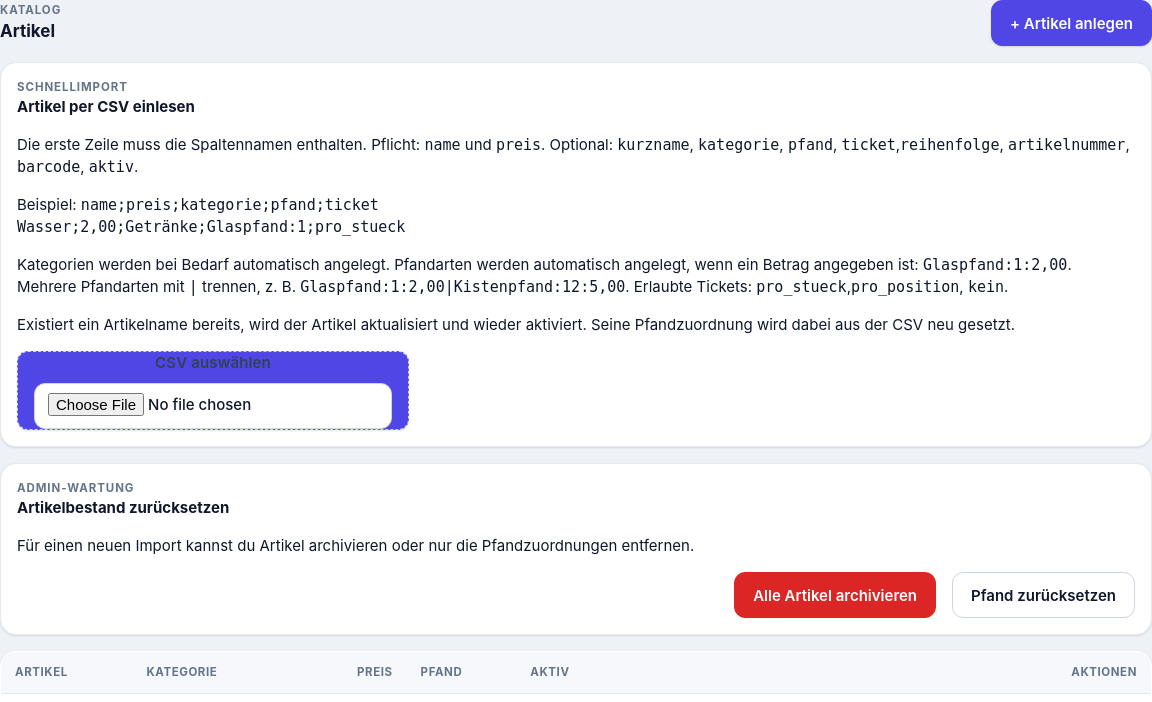
Test case: Artikel Component › should show validation errors when creating an article with invalid data
// Open the form
Click the button "+ Artikel anlegen".
click(1072, 23)  # box [991, 0, 1151, 46]
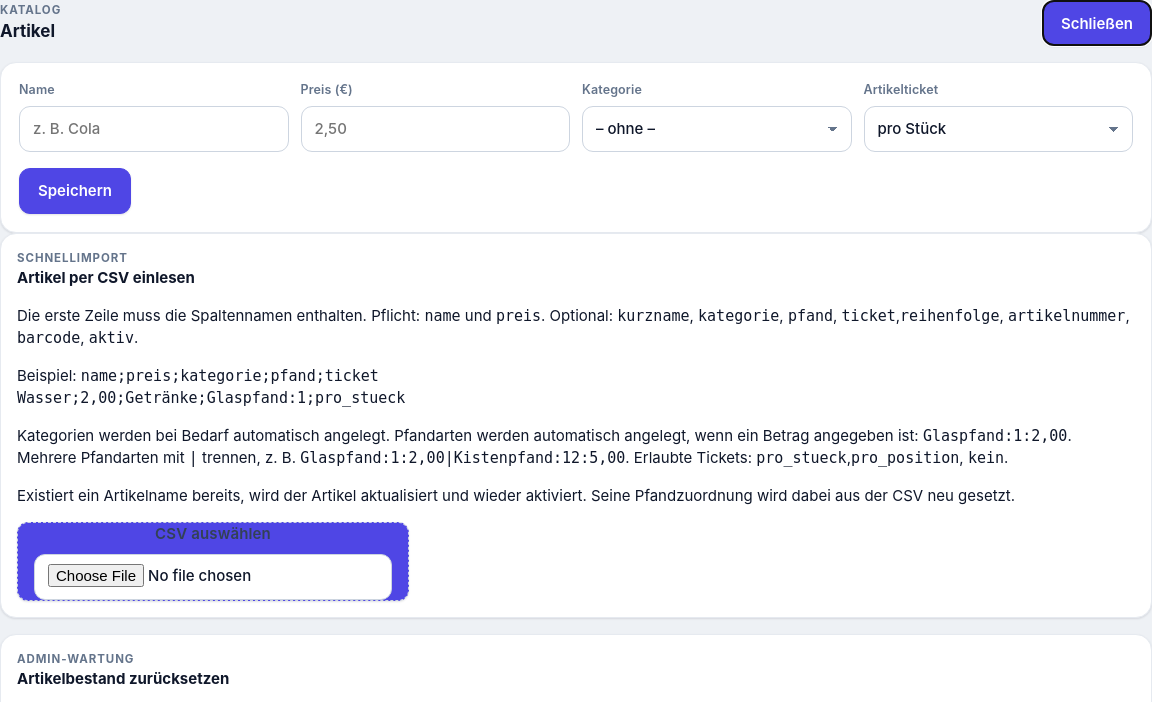
// Try to save without a name
Click the button "Speichern".
click(75, 191)  # box [19, 168, 131, 214]
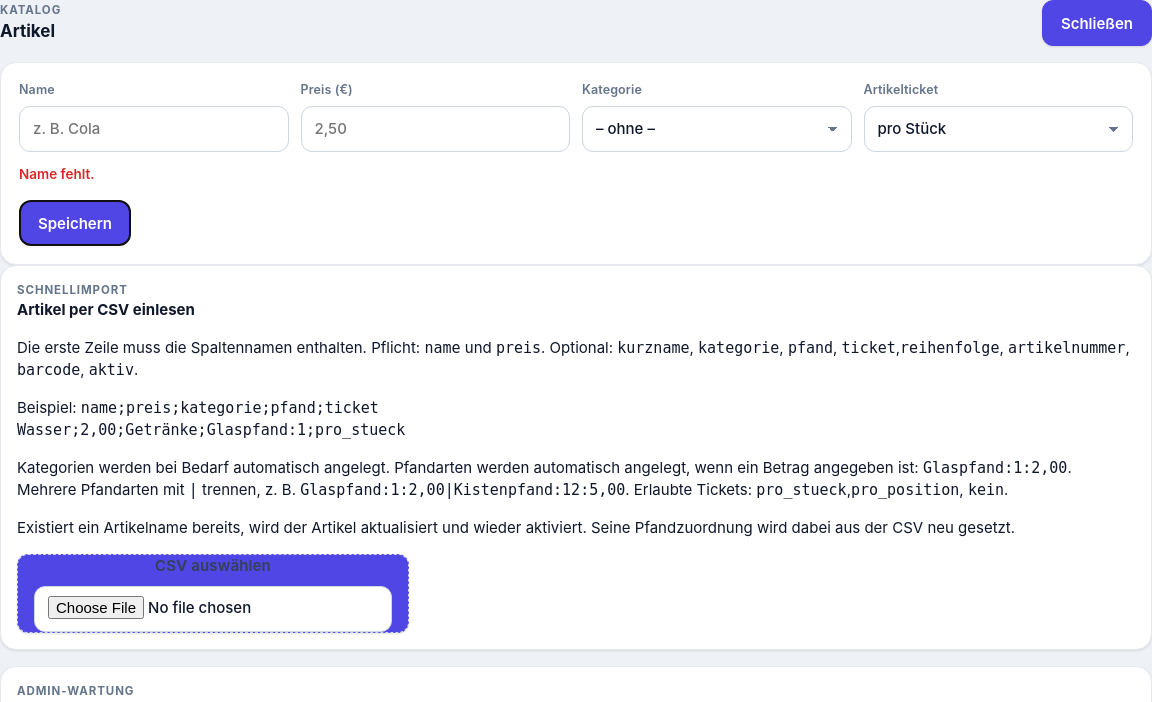
Expected: the text "Name fehlt." is shown, [19, 166, 94, 182]
// Enter a name, but an invalid price
Type "Testartikel" into the field labelled "Name".
click(154, 129); type("Testartikel")  # box [19, 106, 288, 152]
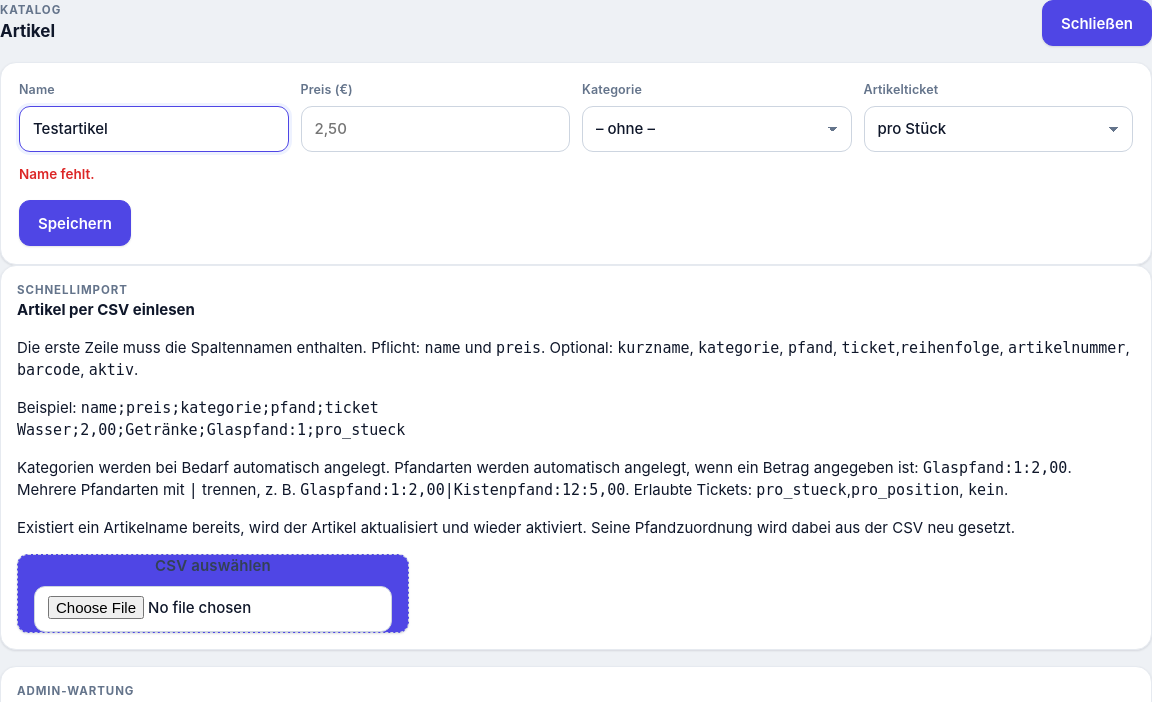
Type "abc" into the field labelled "Preis (€)".
click(435, 129); type("abc")  # box [300, 106, 570, 152]
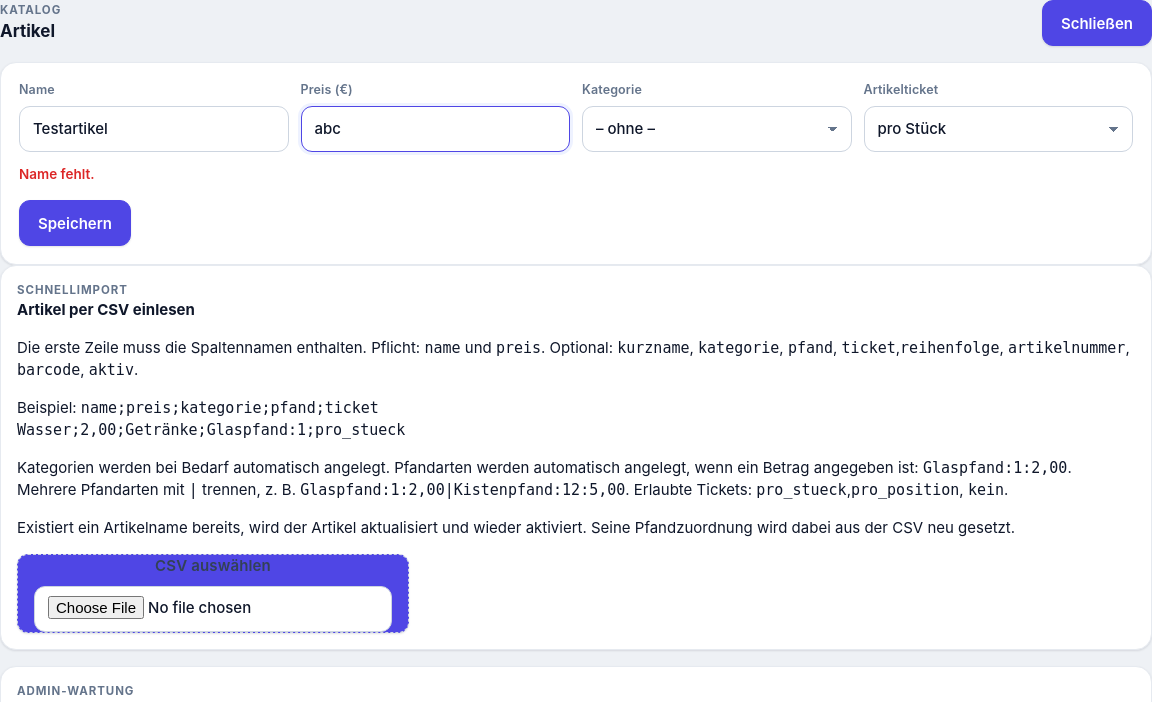
Click the button "Speichern".
click(75, 223)  # box [19, 200, 131, 246]
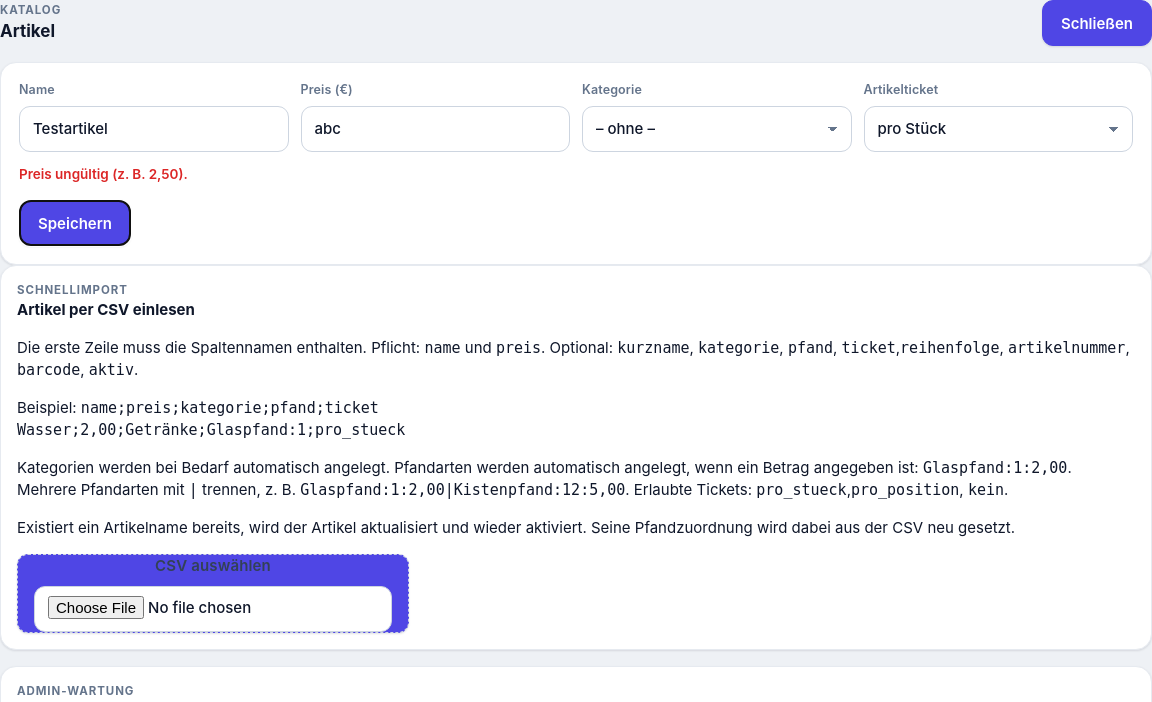
Expected: the text "Preis ungültig (z. B. 2,50)." is shown, [19, 166, 188, 182]
